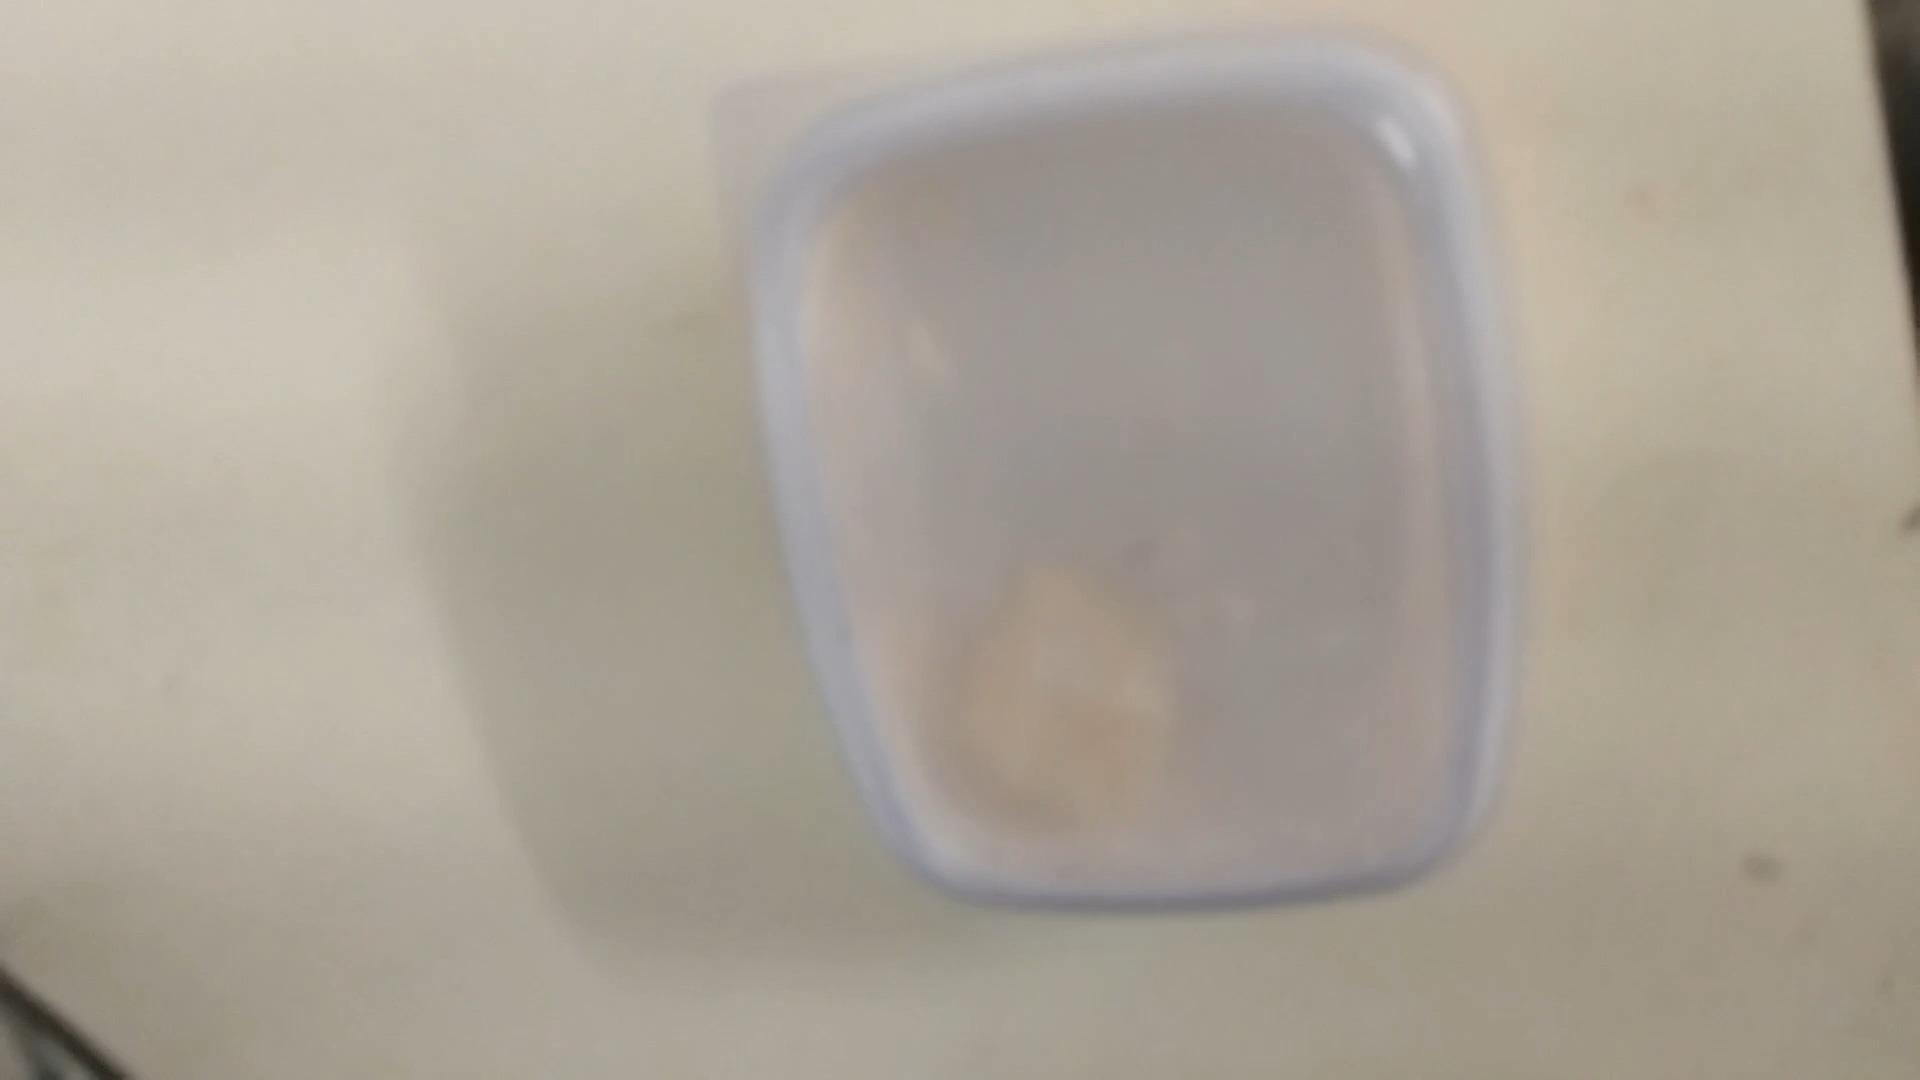butter: (749, 36, 1518, 920)
